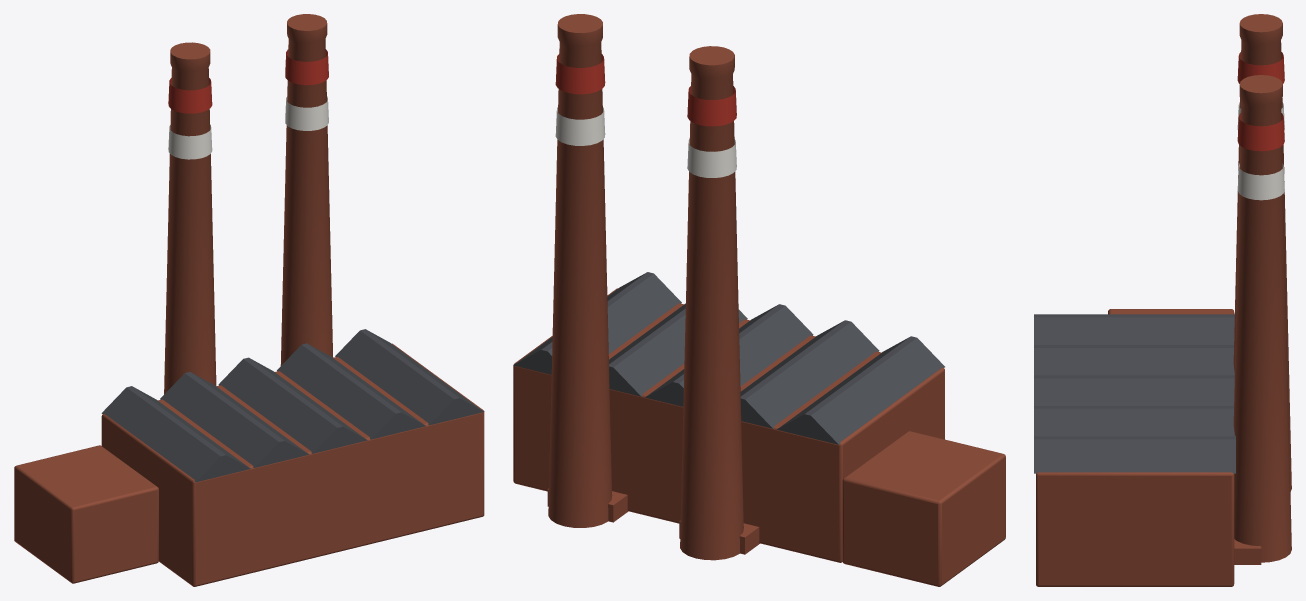
File: factory_clean.fbx
3 renders of one model, left to right at view 1: azimuth 30°, elevation 25°; view 2: azimuth 150°, elevation 25°; view 3: azimuth 270°, elevation 25°, orthographic. The views are drawn at different scales.
Visible parts, largest first — view 1: factory_clean; view 2: factory_clean; view 3: factory_clean.
Part boxes in pixels (<box>): factory_clean: <box>14,14,484,586</box>; factory_clean: <box>513,14,1005,586</box>; factory_clean: <box>1034,14,1291,586</box>.
Size of the model in its own units: 52 by 57 by 28.6.
